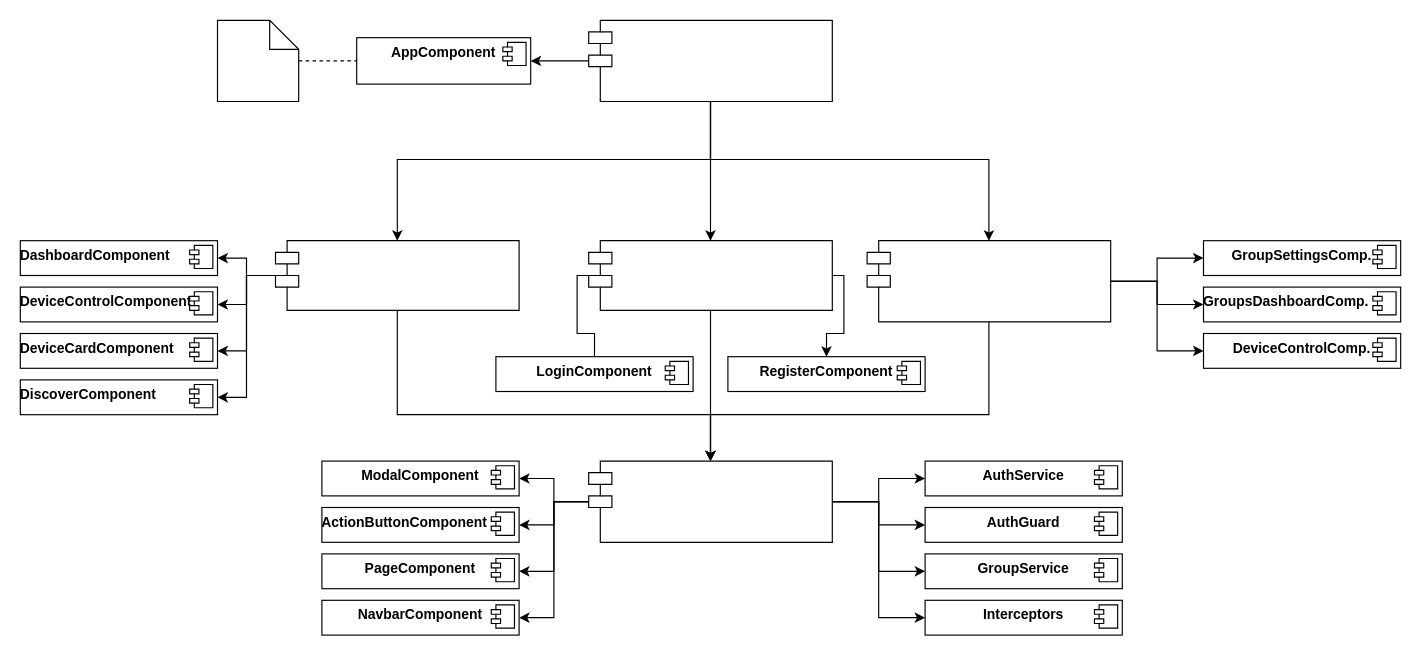
The diagram is 1421 pixels wide and 655 high, and some of its shapes have lost their labels. The shapes that lost their labels are listed below. From the top down, each one's box as (x1, y1, x2, y2) in pixels, then its label:
(216, 19, 299, 102): root of the application
(588, 19, 832, 102): AppModule
(274, 240, 519, 310): DevicesModule
(588, 240, 832, 310): AuthModule
(866, 240, 1111, 322): GroupsModule
(588, 460, 832, 542): SharedModule
